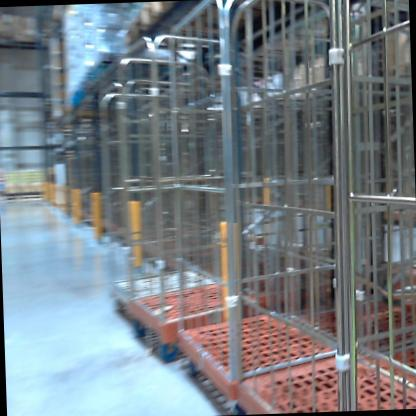pallet: (123, 0, 278, 57)
